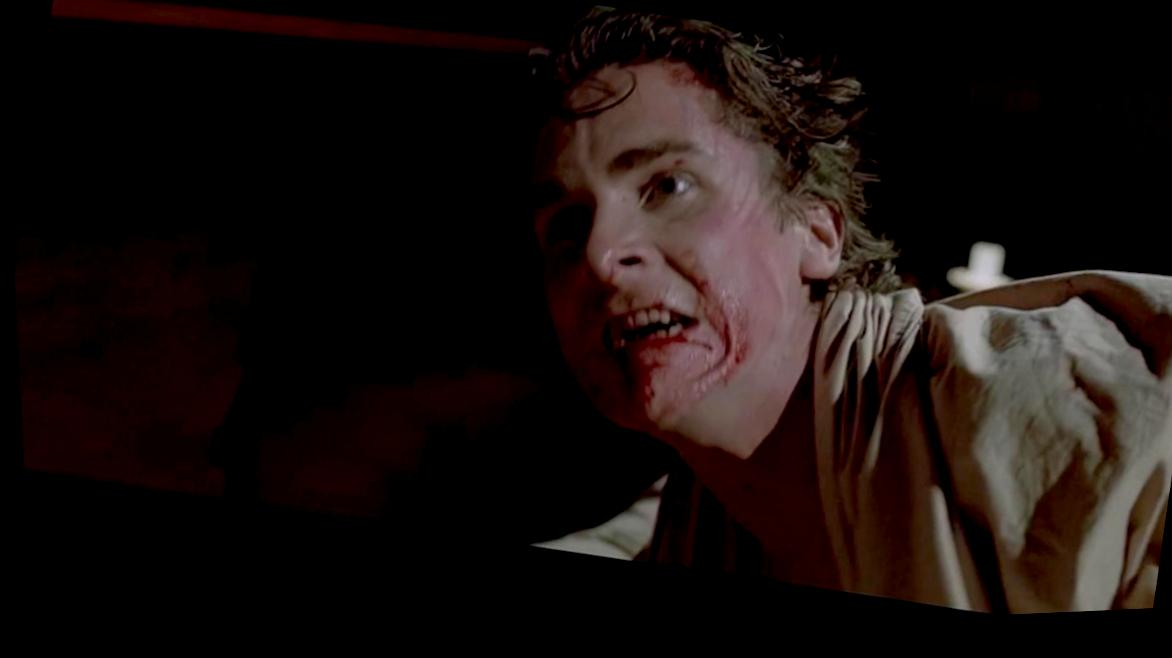Fire: (573, 277, 743, 427)
